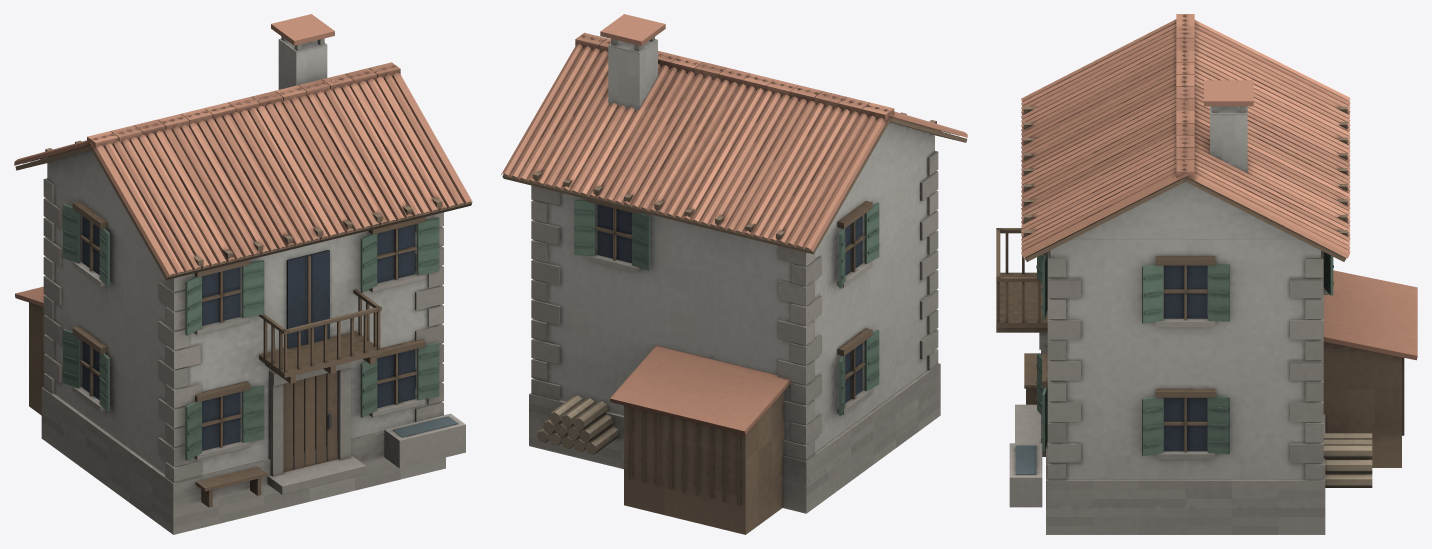
The model's file is plaster-60x54x50-r14-s2.glb.
3 views of the same model, side by side, from view 1: azimuth 30°, elevation 25°; view 2: azimuth 150°, elevation 25°; view 3: azimuth 270°, elevation 25° (orthographic). The views are drawn at different scales.
Parts seen in each view (by area): view 1: Farmhouse; view 2: Farmhouse; view 3: Farmhouse.
Part boxes in pixels (x1,y1,x2,y2): Farmhouse: (14,14,472,534); Farmhouse: (501,14,967,534); Farmhouse: (996,14,1417,534).
Bounding box in the file's own units: 6.93 × 8.46 × 7.79.
1 material, 1 textured.
